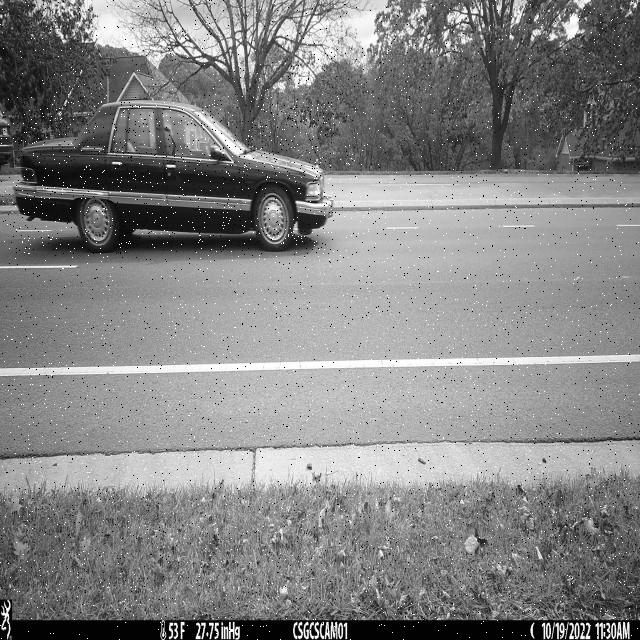Sedan: (13, 101, 336, 254)
